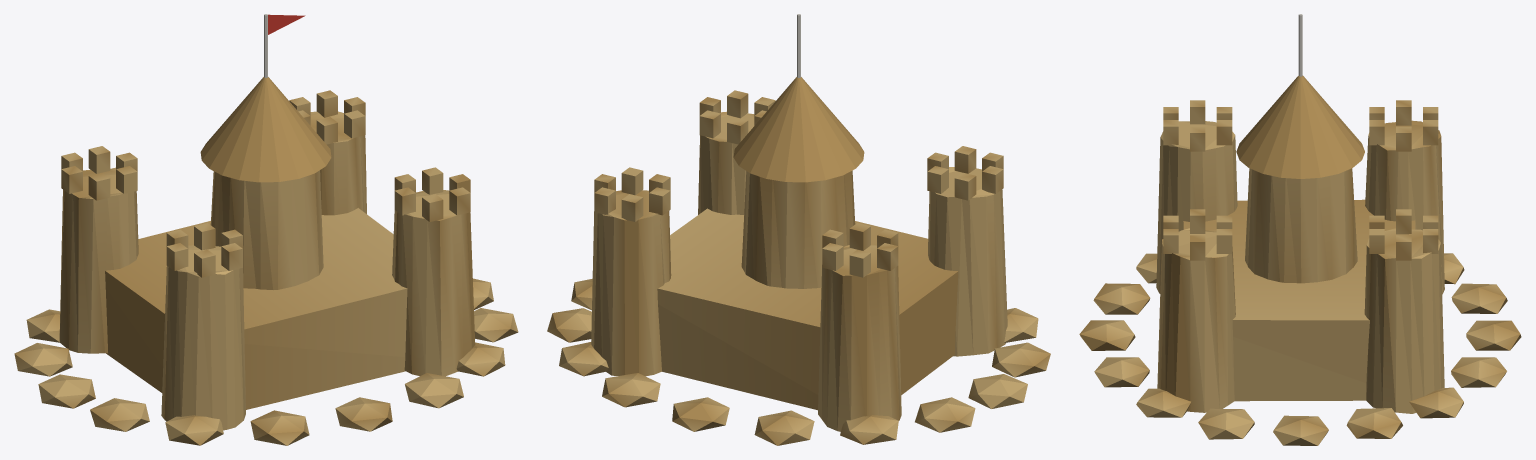
File: beach_castle.glb
The picture shows the model from 3 angles, left to right: view 1: azimuth 30°, elevation 25°; view 2: azimuth 150°, elevation 25°; view 3: azimuth 270°, elevation 25°; orthographic projection. The views are drawn at different scales.
Parts seen in each view (by area): view 1: Sandcastle; view 2: Sandcastle; view 3: Sandcastle.
Part boxes in pixels (x1=…): Sandcastle: x1=14, y1=14, x2=518, y2=445; Sandcastle: x1=547, y1=14, x2=1050, y2=445; Sandcastle: x1=1079, y1=14, x2=1521, y2=445.
Bounding box in the file's own units: 3.94 × 2.85 × 3.43.
